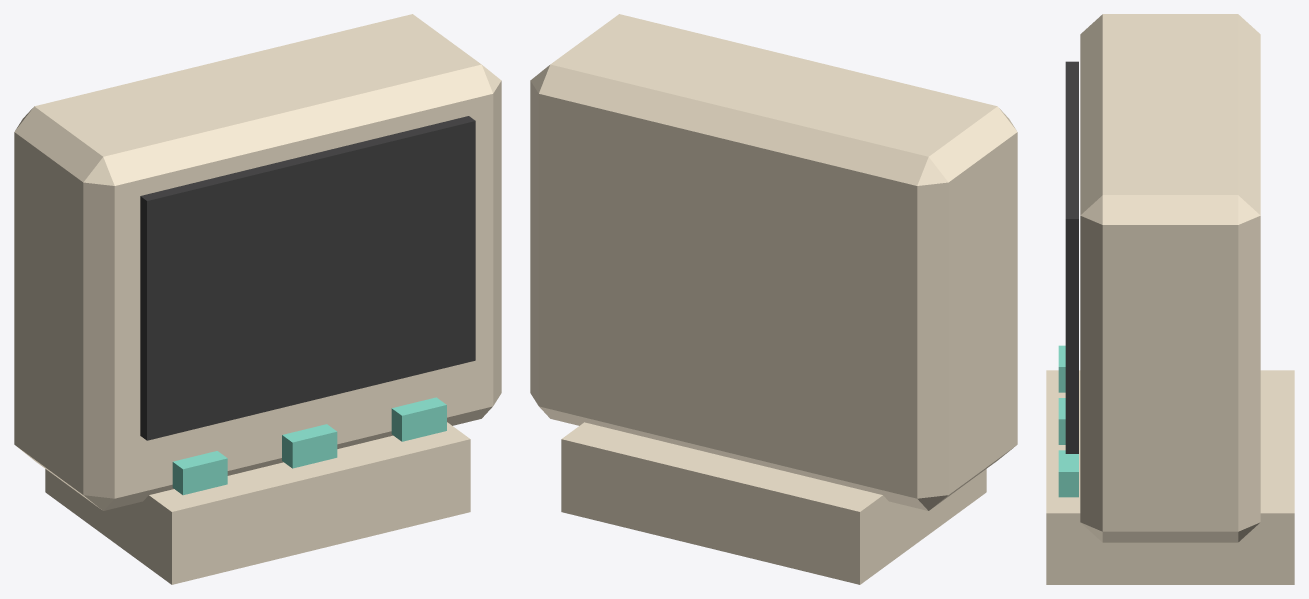
3 renders of one model, left to right at view 1: azimuth 30°, elevation 25°; view 2: azimuth 150°, elevation 25°; view 3: azimuth 270°, elevation 25°, orthographic.
Parts seen in each view (by area): view 1: Housing, Readout, Foot, Control, Control.002, Control.001; view 2: Housing, Foot; view 3: Housing, Foot, Readout, Control.002, Control, Control.001.
Part boxes in pixels (x1=…): Housing: x1=14, y1=14, x2=501, y2=510; Readout: x1=140, y1=116, x2=475, y2=440; Foot: x1=45, y1=422, x2=470, y2=584; Control: x1=172, y1=451, x2=227, y2=495; Control.002: x1=391, y1=397, x2=446, y2=441; Control.001: x1=282, y1=424, x2=337, y2=468; Housing: x1=530, y1=14, x2=1017, y2=510; Foot: x1=561, y1=422, x2=986, y2=584; Housing: x1=1080, y1=14, x2=1260, y2=542; Foot: x1=1046, y1=370, x2=1294, y2=584; Readout: x1=1065, y1=61, x2=1078, y2=453; Control.002: x1=1058, y1=450, x2=1078, y2=497; Control: x1=1058, y1=345, x2=1065, y2=392; Control.001: x1=1058, y1=398, x2=1065, y2=444.
Size of the model in its own units: 42 by 40 by 22.
